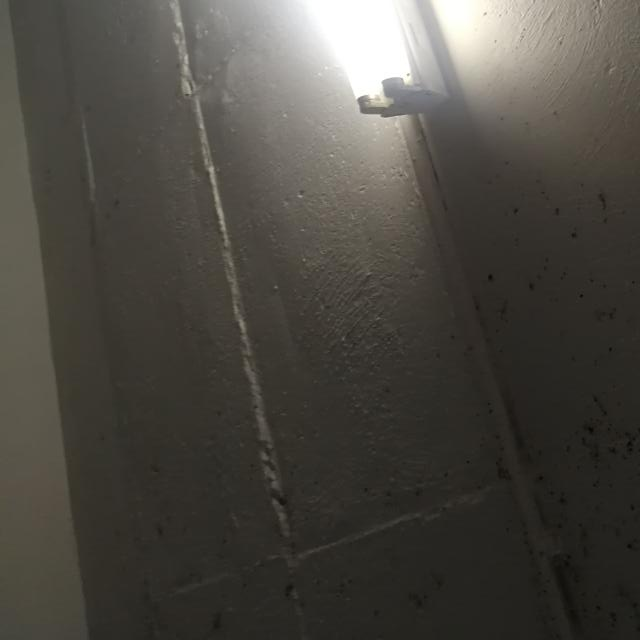fluorescent tube: (187, 0, 478, 170)
